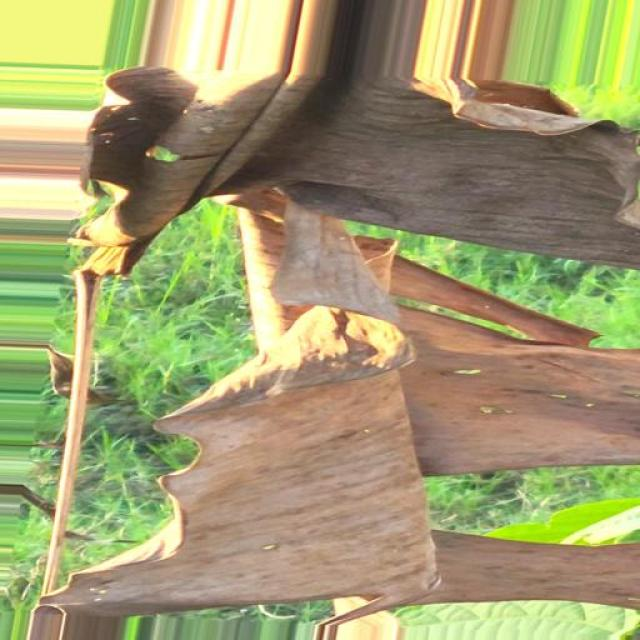Bract_mosaic_virus: (9, 289, 640, 640), (6, 0, 640, 291)
